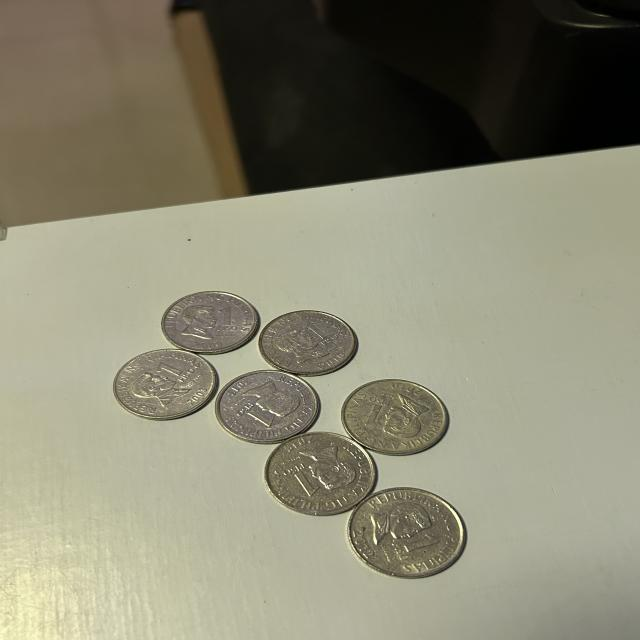1_Old_Front: (377, 532, 443, 568), (296, 314, 339, 359), (275, 461, 320, 502), (359, 390, 403, 431), (232, 392, 275, 431), (150, 360, 197, 394), (206, 302, 242, 343)
